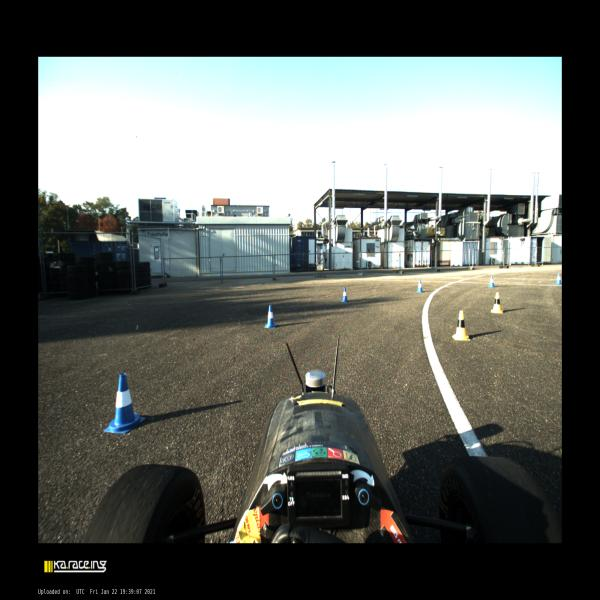blue_cone: (103, 373, 144, 433), (264, 305, 277, 327), (340, 286, 349, 302), (554, 272, 562, 285), (416, 280, 424, 292), (488, 275, 494, 287)
yellow_cone: (451, 310, 470, 340), (490, 291, 504, 313)
